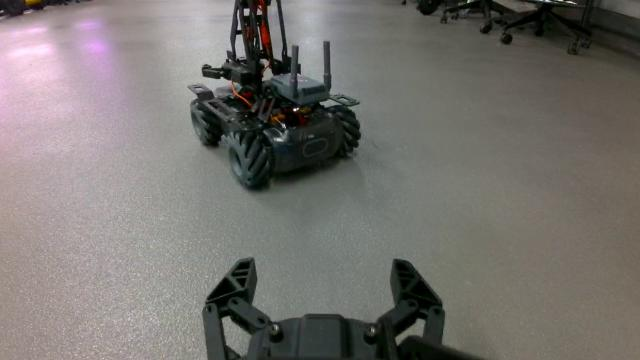robot: (186, 0, 363, 192)
